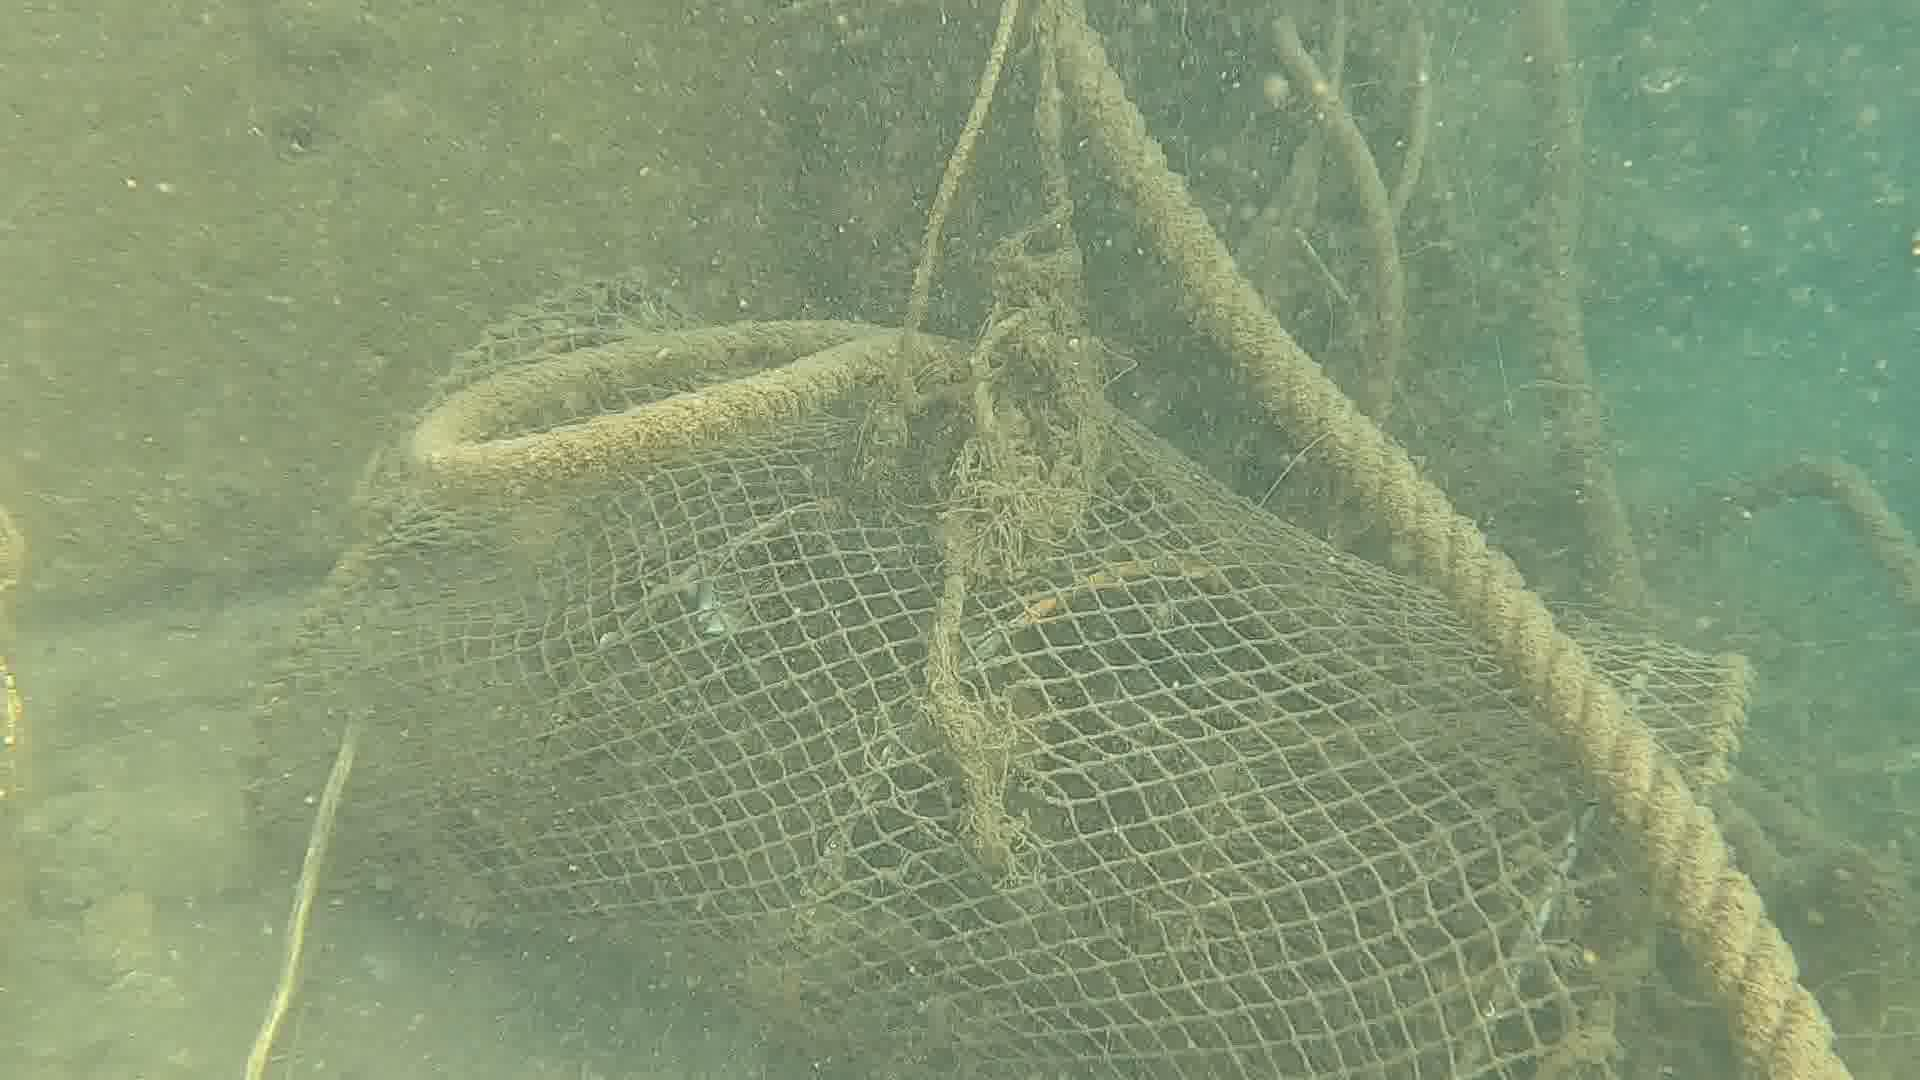bundle of ropes: (1058, 0, 1920, 1080)
rope: (401, 319, 899, 491), (905, 0, 1014, 334)
spring fish trap: (233, 265, 1745, 1080)
